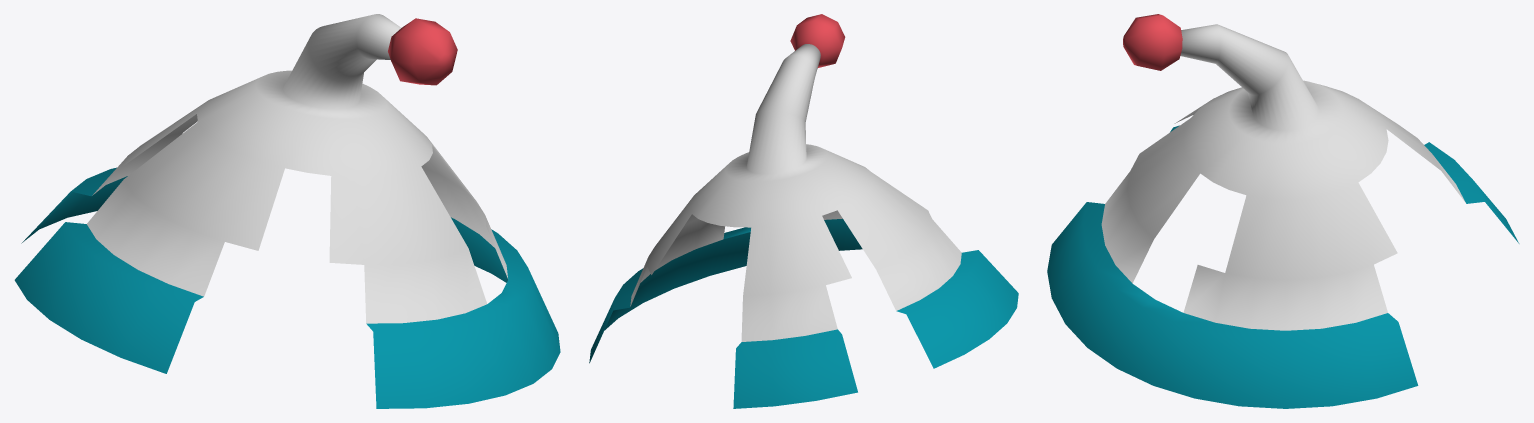
Rendered from SpaceShipNewPiace02.fbx.
3 renders of one model, left to right at view 1: azimuth 30°, elevation 25°; view 2: azimuth 150°, elevation 25°; view 3: azimuth 270°, elevation 25°, orthographic. The views are drawn at different scales.
Parts seen in each view (by area): view 1: Sphere.002; view 2: Sphere.002; view 3: Sphere.002.
Boxes of the visible parts, left/top/right/bottom form: Sphere.002: left=14, top=14, right=560, bottom=408; Sphere.002: left=589, top=14, right=1018, bottom=408; Sphere.002: left=1047, top=14, right=1519, bottom=408.
Size of the model in its own units: 164 by 165 by 123.
